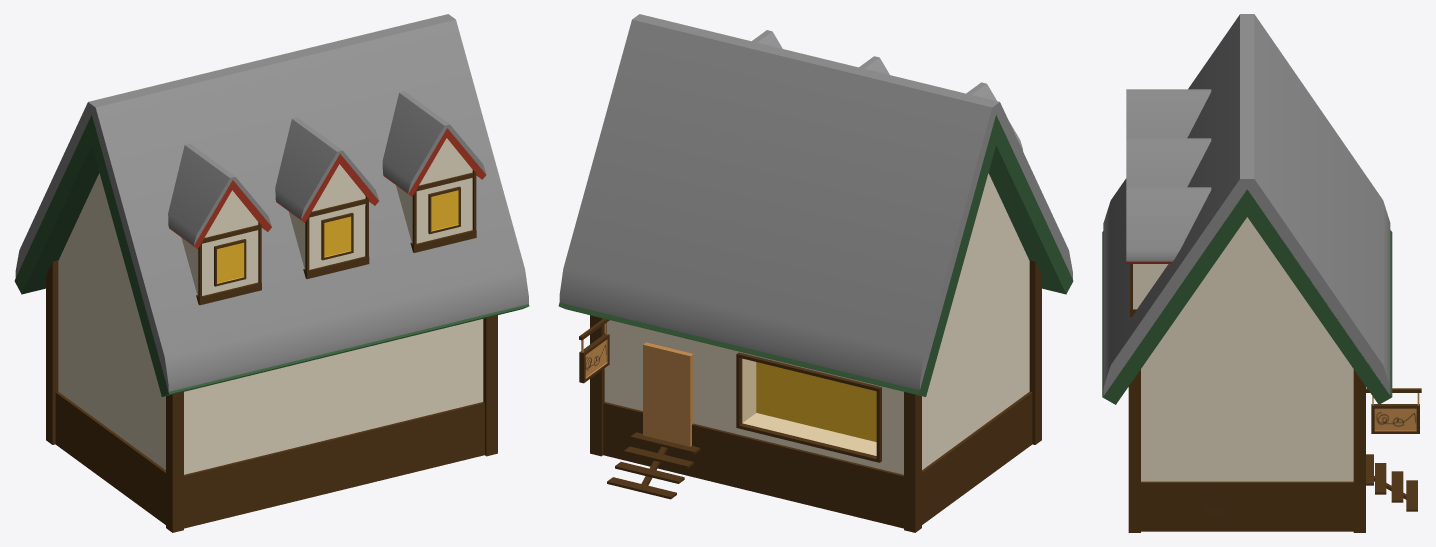
Rendered from hosue_2.fbx.
The picture shows the model from 3 angles, left to right: view 1: azimuth 30°, elevation 25°; view 2: azimuth 150°, elevation 25°; view 3: azimuth 270°, elevation 25°; orthographic projection. The views are drawn at different scales.
Parts seen in each view (by area): view 1: Object085, Object058, Object066; view 2: Object058, Object085, Object066; view 3: Object085, Object058.
Part boxes in pixels (<box>): Object085: <box>14,115,529,532</box>; Object058: <box>15,14,528,391</box>; Object066: <box>217,190,458,282</box>; Object058: <box>559,14,1072,390</box>; Object085: <box>558,115,1073,532</box>; Object066: <box>756,362,876,441</box>; Object085: <box>1102,189,1421,532</box>; Object058: <box>1103,14,1390,395</box>.
Bounding box in the file's own units: 841 × 864 × 688.
